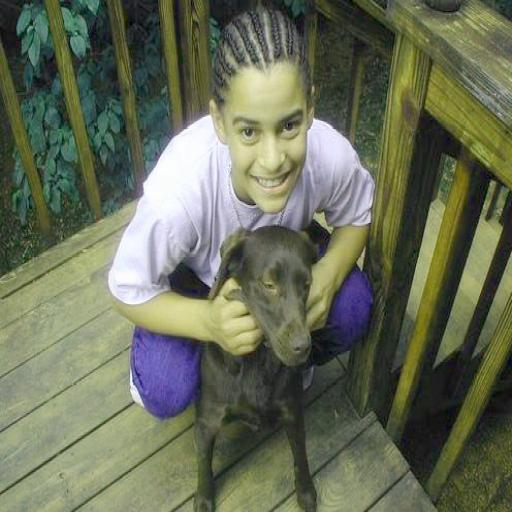dog_face: (233, 227, 317, 361)
